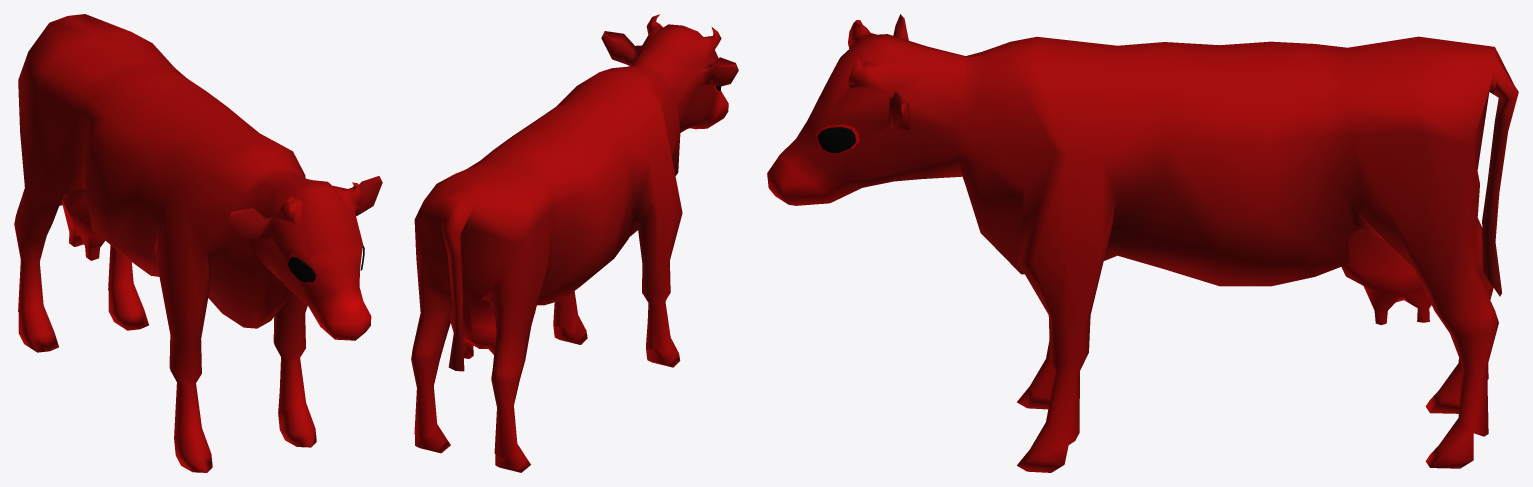
File: BrownCow.glb
3 views of the same model, side by side, from view 1: azimuth 30°, elevation 25°; view 2: azimuth 150°, elevation 25°; view 3: azimuth 270°, elevation 25° (orthographic). The views are drawn at different scales.
Parts seen in each view (by area): view 1: alt578; view 2: alt578; view 3: alt578.
Part boxes in pixels (x1,y1,x2,y2): alt578: (14, 14, 382, 472); alt578: (411, 14, 738, 472); alt578: (767, 14, 1518, 472).
Size of the model in its own units: 66.63 by 131 by 226.
